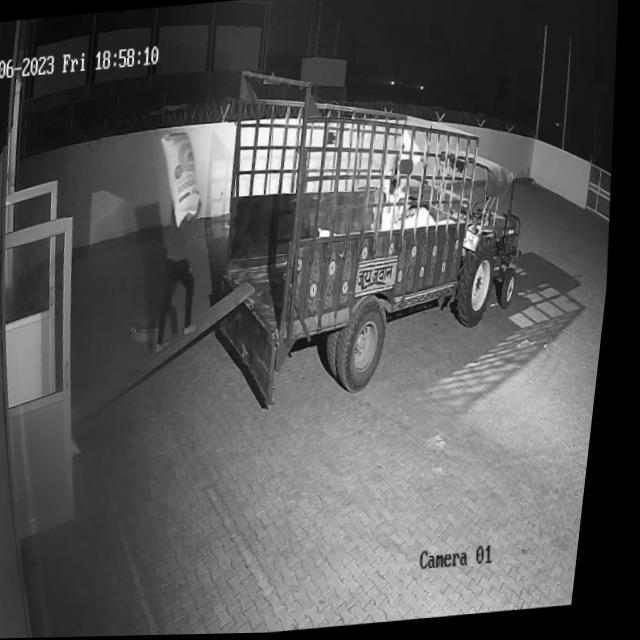sack: (156, 129, 211, 229)
